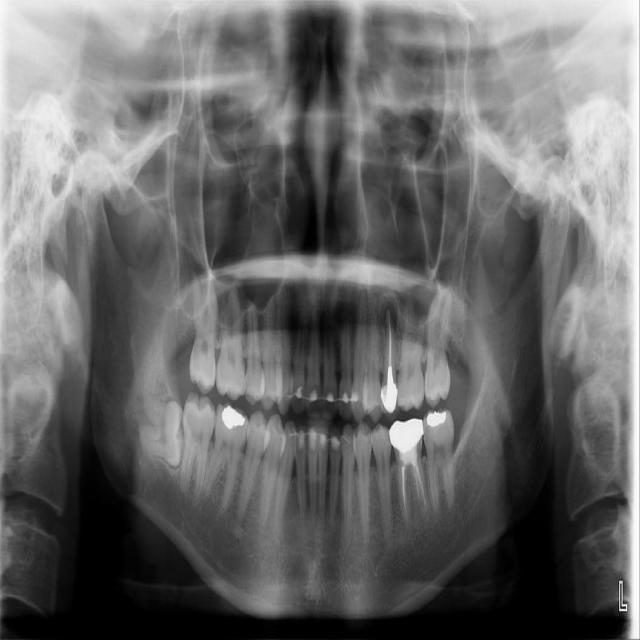Crown: (389, 419, 423, 463), (380, 371, 400, 422)
Filling: (221, 402, 248, 429), (427, 408, 450, 428)
Root Canal Treatment: (413, 459, 423, 502), (400, 459, 407, 515), (387, 332, 389, 363), (388, 317, 389, 332)
impacted tooth: (137, 391, 181, 465)
